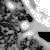node 1: (19, 19, 30, 31)
node 2: (6, 3, 15, 11)
